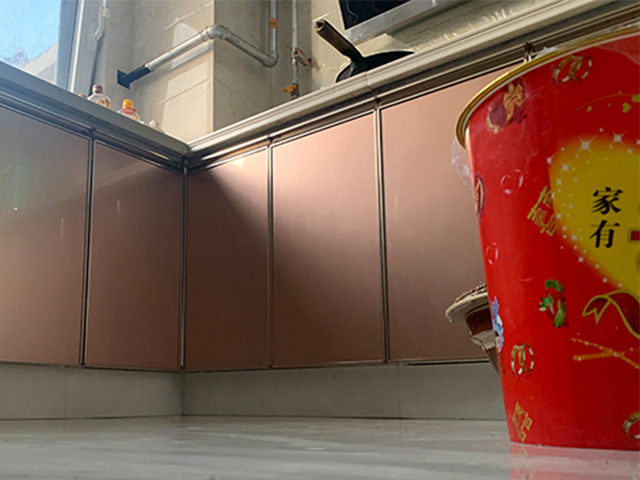cabinet: (185, 87, 458, 416), (1, 61, 189, 425)
trashcan: (455, 20, 640, 453)
